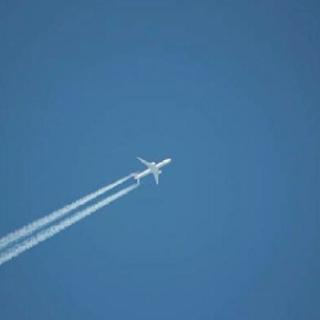Contrails: (0, 168, 141, 286)
